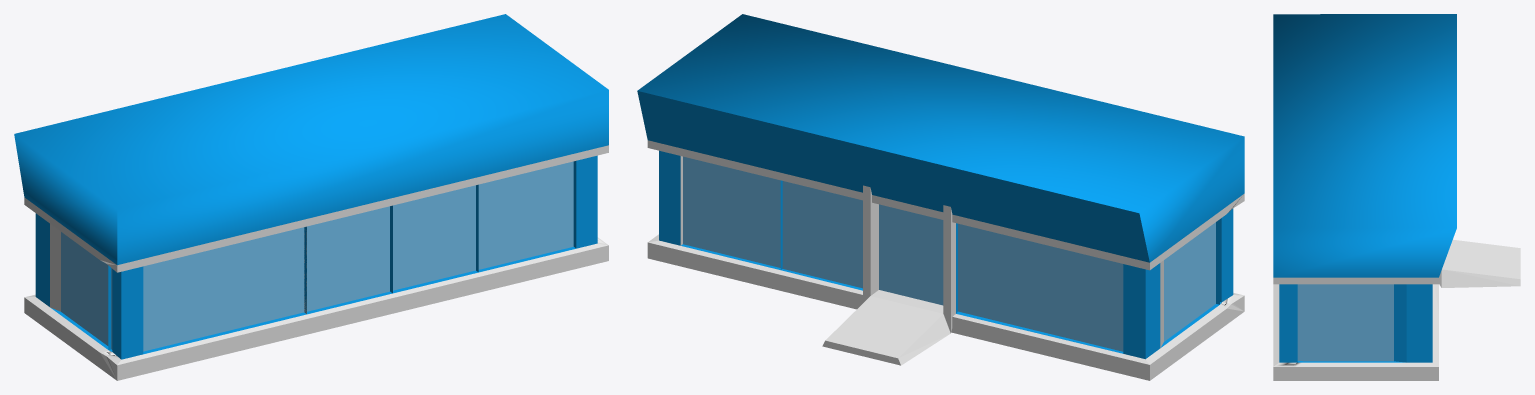
The model's file is Shop6x2x2blue.fbx.
The picture shows the model from 3 angles, left to right: view 1: azimuth 30°, elevation 25°; view 2: azimuth 150°, elevation 25°; view 3: azimuth 270°, elevation 25°; orthographic projection. The views are drawn at different scales.
Visible parts, largest first — view 1: Shop.002; view 2: Shop.002; view 3: Shop.002.
Boxes of the visible parts, x1=… form: Shop.002: x1=14, y1=14, x2=608, y2=380; Shop.002: x1=637, y1=14, x2=1244, y2=380; Shop.002: x1=1273, y1=14, x2=1520, y2=380.
Size of the model in its own units: 5.94 by 1.98 by 2.91.
Materials: 1 (1 with a texture image).
